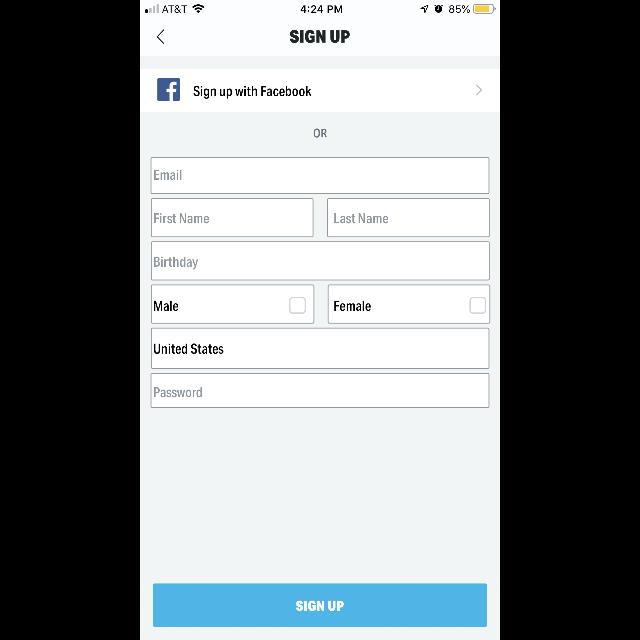checkbox: (288, 298, 306, 314), (468, 298, 486, 314)
icon: (158, 79, 180, 101), (157, 30, 165, 44), (476, 84, 482, 96)
input: (151, 328, 489, 369), (150, 242, 490, 280), (150, 158, 490, 195), (150, 374, 490, 408), (151, 198, 313, 238), (327, 198, 489, 238)
text: (194, 86, 312, 100), (290, 31, 350, 44), (154, 344, 224, 354), (154, 256, 198, 270), (334, 213, 388, 224), (154, 213, 210, 223), (154, 387, 202, 397), (335, 301, 371, 311), (154, 170, 182, 180), (154, 301, 178, 311), (314, 128, 326, 138)
textbutton: (154, 584, 486, 626)
uppertaskbar: (140, 0, 500, 14)
